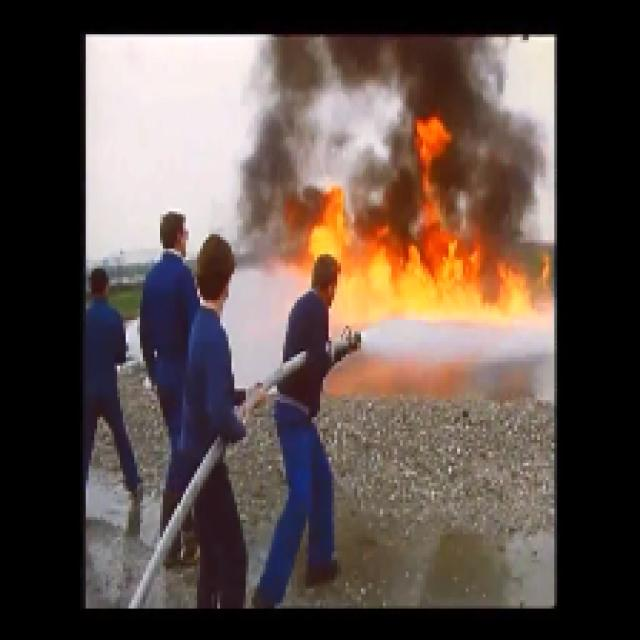fire: (311, 215, 526, 320)
smoke: (264, 39, 311, 201), (475, 123, 537, 209), (396, 46, 466, 110)
